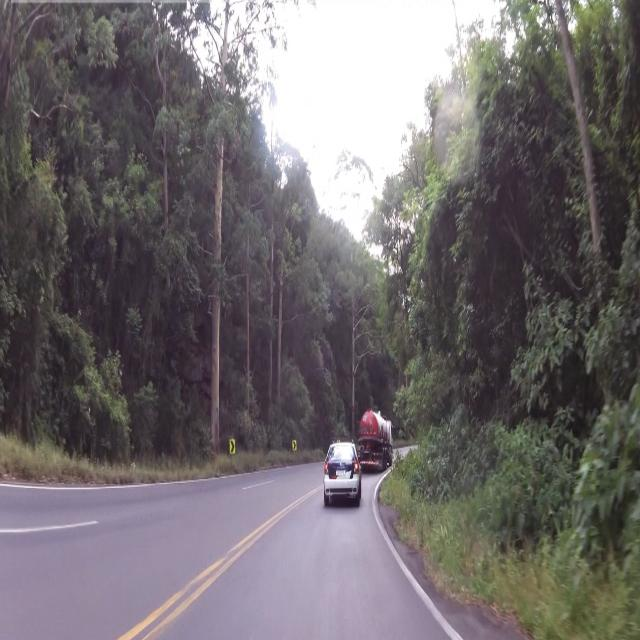Del: (229, 438, 238, 457)
